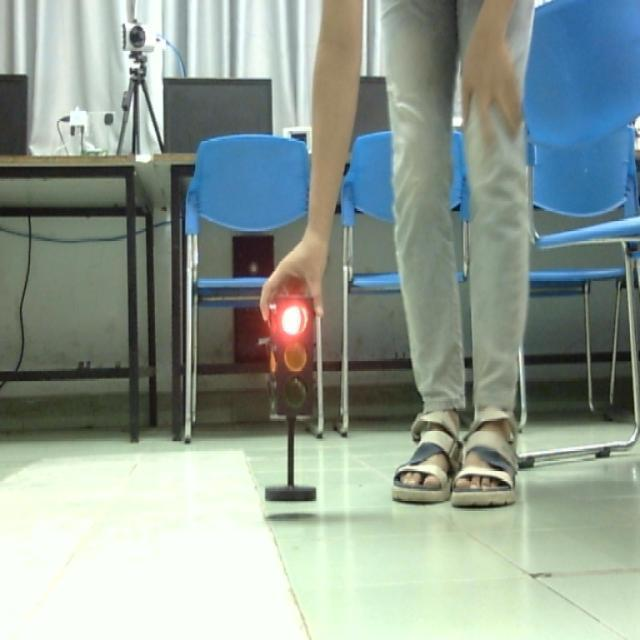red_light: (268, 284, 324, 420)
